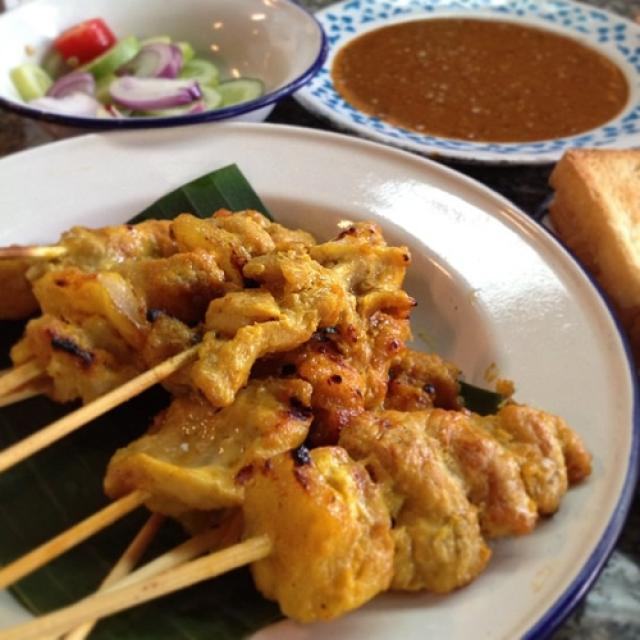牛肉菜式: (8, 48, 602, 602)
